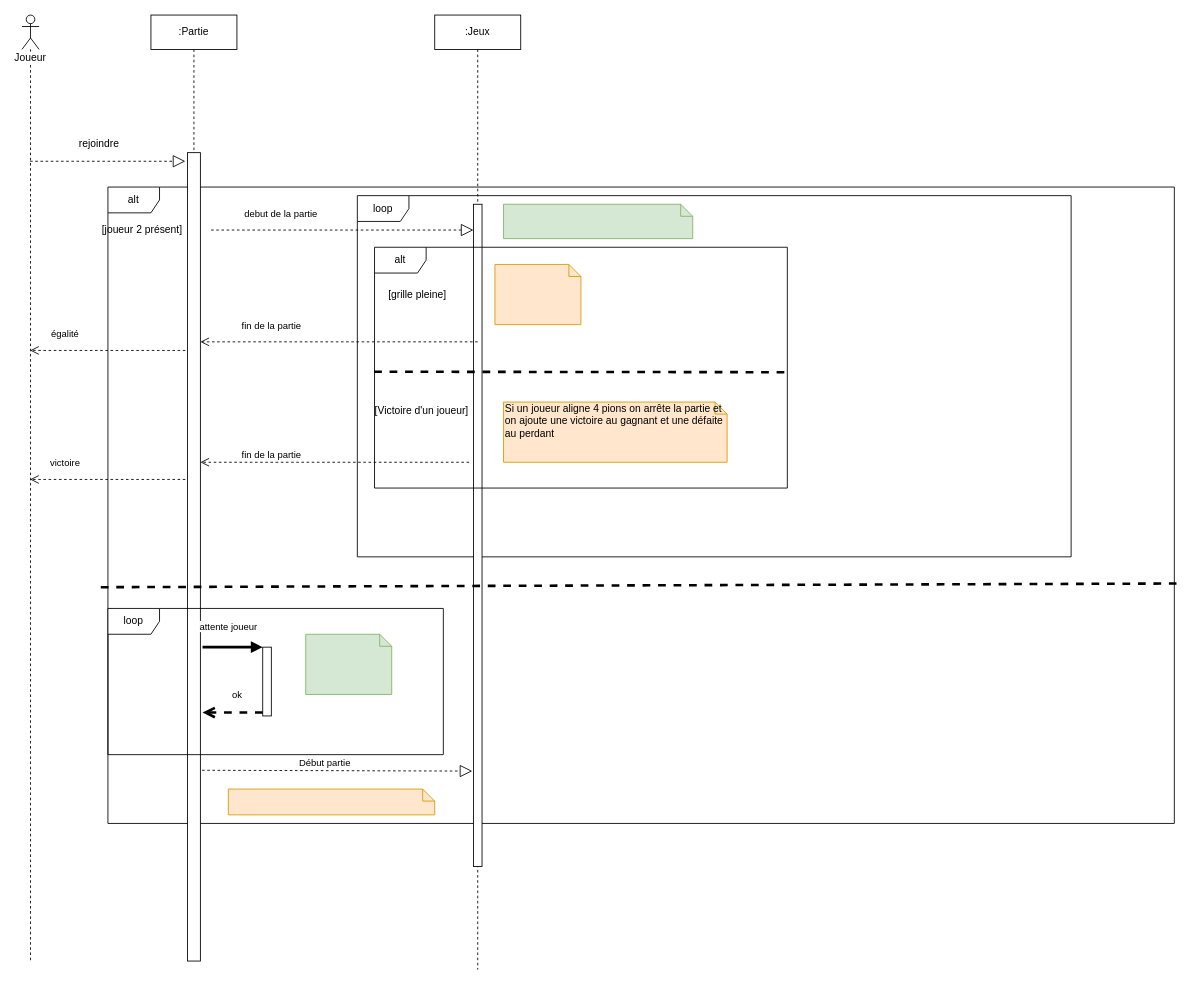
Image size: 1194x985. Some labels were removed from this diagram. Each missing label, with the centre of its shape:
"Boucle de jeux tour a tour" goes at point (598, 221).
"On attend que le joueur adverse se connecte" goes at point (348, 663).
"Si la grille est plaine on met fin a la partie" goes at point (537, 294).
"une fois le joueur connecté on lance la partie" goes at point (331, 801).
